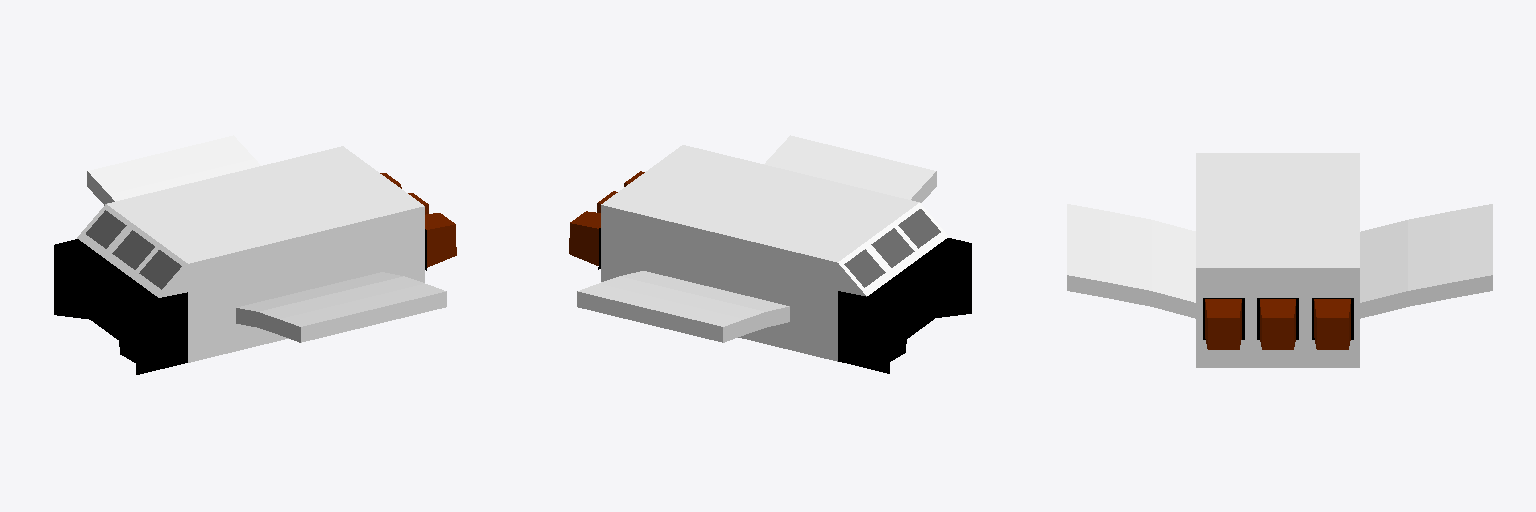
Rendered from SpaceShip.obj.
3 renders of one model, left to right at view 1: azimuth 30°, elevation 25°; view 2: azimuth 150°, elevation 25°; view 3: azimuth 270°, elevation 25°, orthographic.
Parts seen in each view (by area): view 1: pCube2, pCube8, pCube12, pCube13; view 2: pCube2, pCube8, pCube12, pCube14; view 3: pCube2, pCube8, pCube14, pCube10, pCube13.
Boxes of the visible parts, x1=… form: pCube2: x1=77, y1=146, x2=424, y2=362; pCube8: x1=87, y1=135, x2=446, y2=342; pCube12: x1=54, y1=239, x2=187, y2=374; pCube13: x1=425, y1=213, x2=456, y2=270; pCube2: x1=601, y1=145, x2=948, y2=361; pCube8: x1=577, y1=135, x2=936, y2=342; pCube12: x1=838, y1=238, x2=971, y2=373; pCube14: x1=569, y1=211, x2=600, y2=269; pCube2: x1=1196, y1=153, x2=1359, y2=367; pCube8: x1=1067, y1=204, x2=1492, y2=318; pCube14: x1=1312, y1=298, x2=1353, y2=349; pCube10: x1=1257, y1=298, x2=1298, y2=349; pCube13: x1=1203, y1=298, x2=1244, y2=349.
Size of the model in its own units: 6.94 by 2 by 7.79.